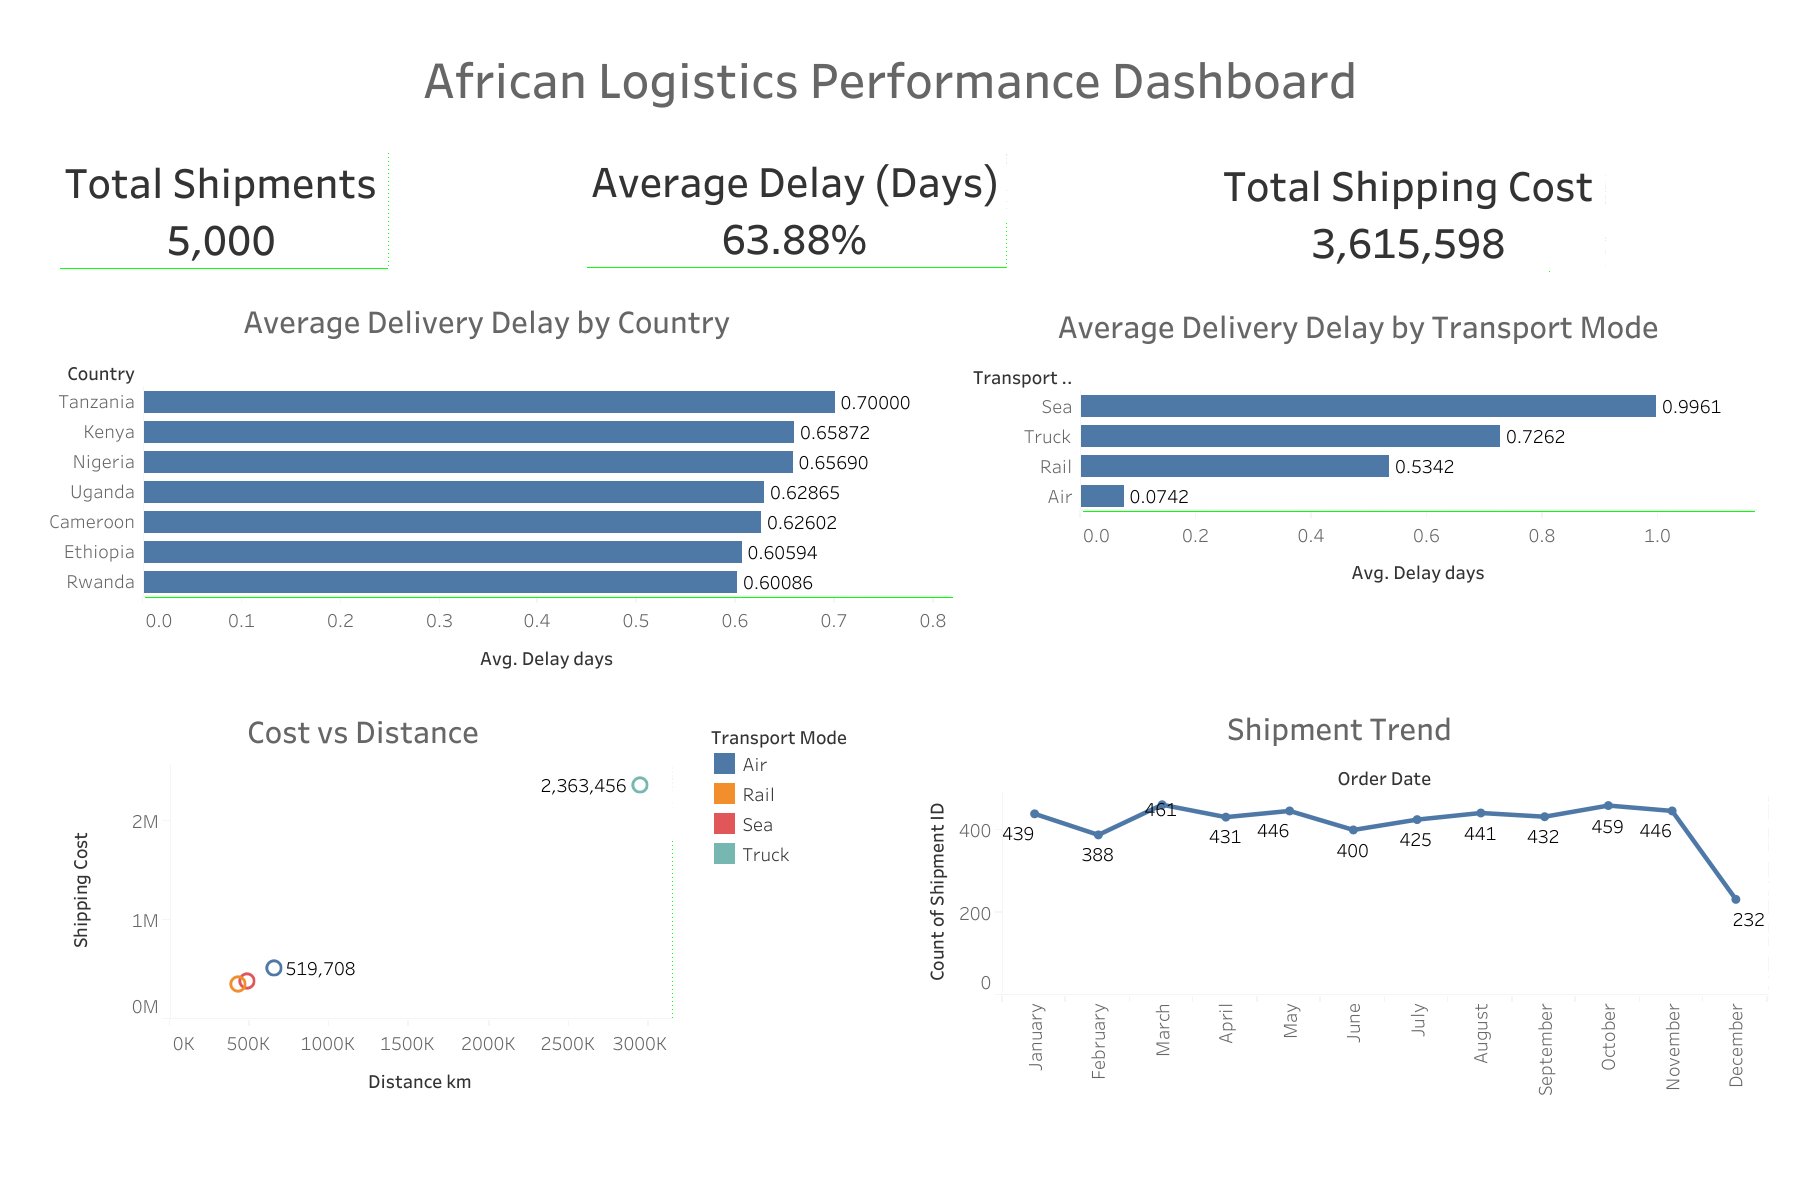

Layout of this report page (visuals, bound fields, positions):
{"tool":"tableau","page":{"name":"African Logistics Performance Dashboard","canvas":[1200,800],"ordinal":0},"visuals":[{"type":"text","box":[81,15,1025,74]},{"type":"worksheet","title":"KPI Avg Delay","mark":"Automatic","box":[390,101,401,83]},{"type":"worksheet","title":"KPI Total Shipments","mark":"Automatic","box":[38,102,303,81]},{"type":"worksheet","title":"KPI Total Cost","mark":"Automatic","box":[809,104,371,84]},{"type":"worksheet","title":"Delay by Country","mark":"Automatic","rows":["Country"],"cols":["Delay_days"],"box":[15,194,619,261]},{"type":"worksheet","title":"Delay by Transport Mode","mark":"Automatic","rows":["Transport_Mode"],"cols":["Delay_days"],"box":[640,197,531,207]},{"type":"worksheet","title":"Shipment Trend","mark":"Automatic","rows":["Shipment_ID"],"cols":["Order_Date"],"box":[608,465,570,278]},{"type":"worksheet","title":"Cost vs Distance","mark":"Automatic","rows":["Shipping_Cost"],"cols":["Distance_km"],"box":[37,467,410,269]},{"type":"legend","title":"Cost vs Distance","param":"[federated.0srpnsu06vfe6e0zmqe9t0p0dyim].[none:Transport_Mode:nk]","box":[473,480,97,99]}]}

Visuals, with their boxes in screenshot pixels (x1, y1, x2, y2), scaled from the page's 1200x800 canvas onto the 1799x1199 screenshot:
text: x1=121, y1=22, x2=1658, y2=133
"KPI Avg Delay" worksheet: x1=585, y1=151, x2=1186, y2=276
"KPI Total Shipments" worksheet: x1=57, y1=153, x2=511, y2=274
"KPI Total Cost" worksheet: x1=1213, y1=156, x2=1769, y2=282
"Delay by Country" worksheet: x1=22, y1=291, x2=950, y2=682
"Delay by Transport Mode" worksheet: x1=959, y1=295, x2=1756, y2=605
"Shipment Trend" worksheet: x1=911, y1=697, x2=1766, y2=1114
"Cost vs Distance" worksheet: x1=55, y1=700, x2=670, y2=1103
"Cost vs Distance" legend: x1=709, y1=719, x2=855, y2=868
